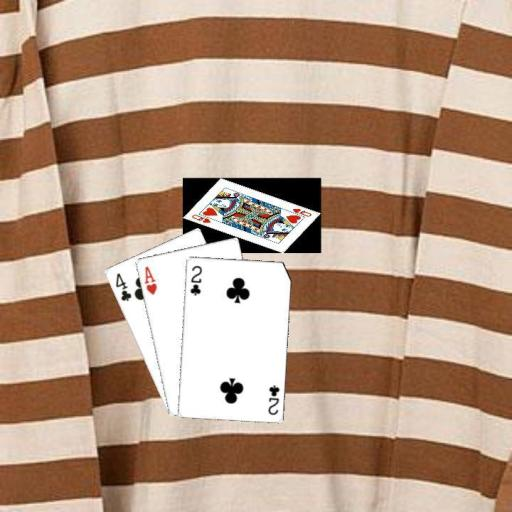2C: (187, 263, 203, 297), (265, 382, 280, 416)
4C: (112, 269, 133, 303)
AH: (141, 263, 158, 296)
